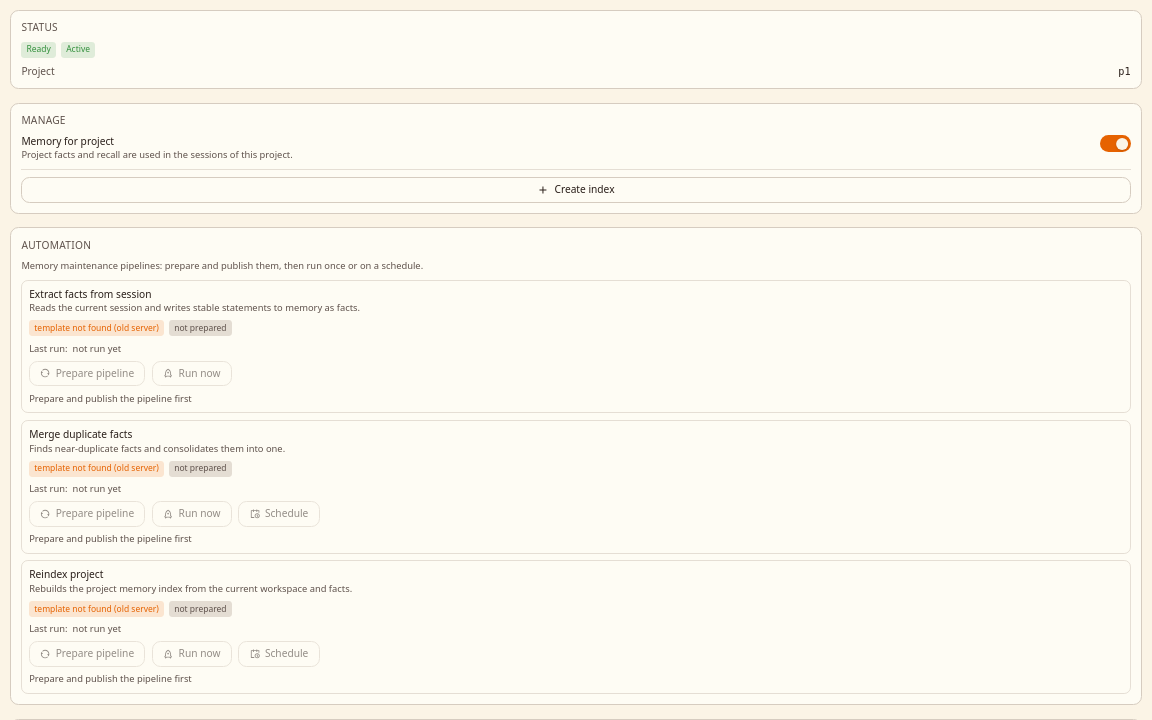
Test: MemoryTab — управление памятью проекта › ошибка 403 → inline-сообщение, состояние тумблера не меняется
Click the switch named "Memory for project". click: coordinates (1115, 144)
box: [1100,135,1131,152]
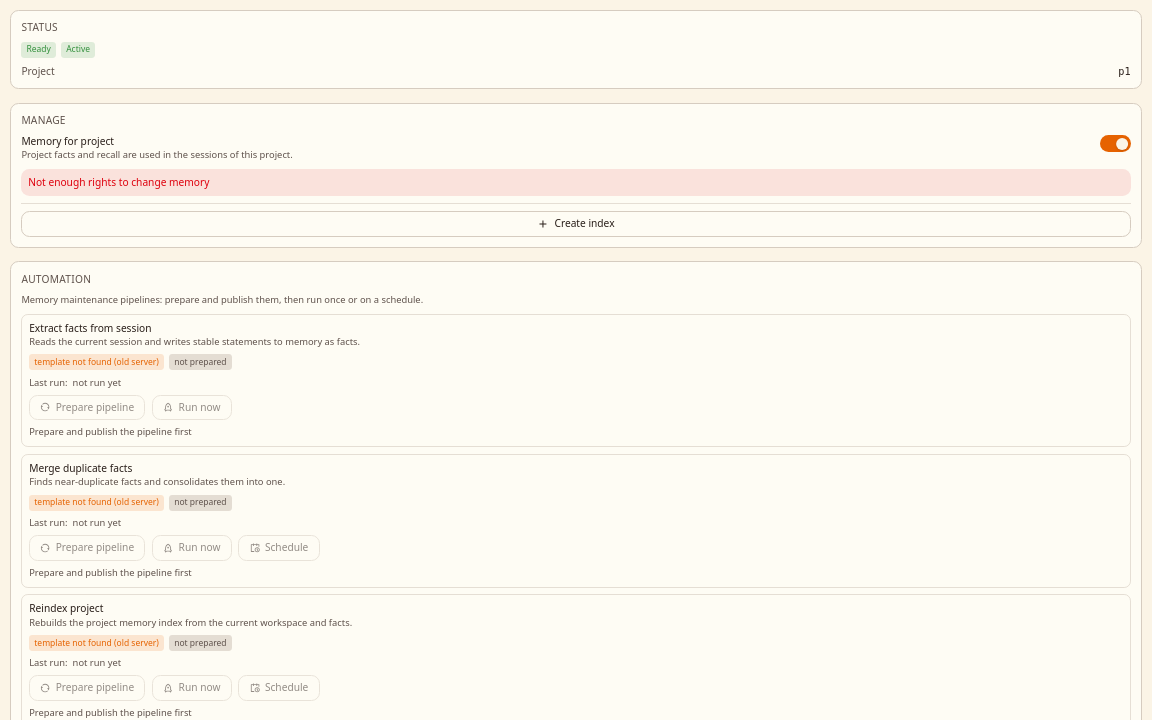
Result: the message "Not enough rights to change memory" is shown at [21,169,1131,196]
Result: the message with test id "memory-project-memory-error" reads "Not enough rights to change memory" at [28,175,210,189]
